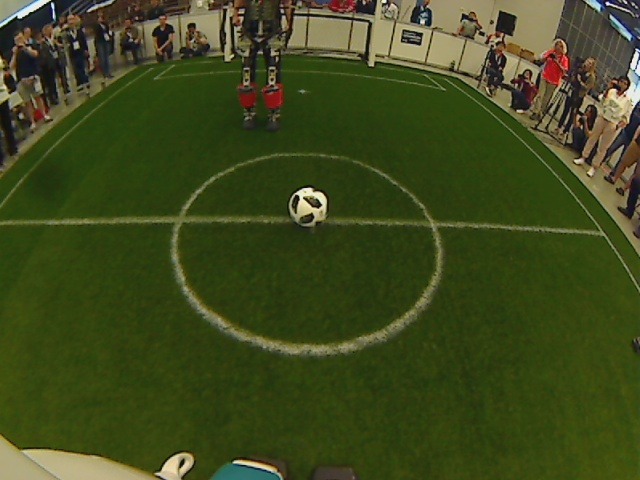ball: (284, 183, 332, 231)
